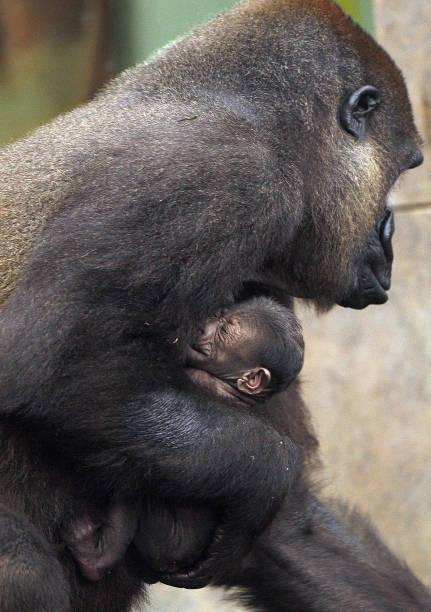gorille_Autres: (3, 0, 431, 612)
